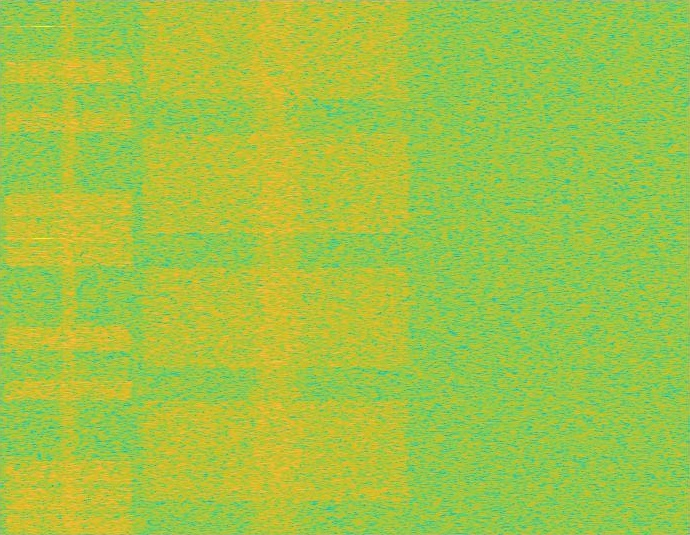5G: (138, 0, 414, 534)
DSSS: (245, 0, 307, 534), (60, 0, 78, 534)
LTE: (0, 0, 138, 534)
Radar: (36, 0, 49, 534)
